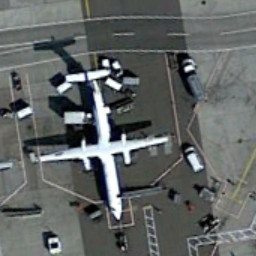Airplane: (22, 52, 177, 233)
